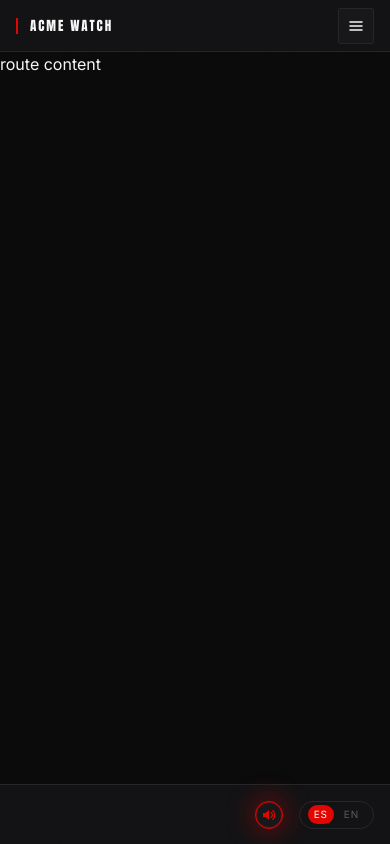
Scenario: Mobile navigation — top bar + drawer › closes the drawer on Escape
Click the button named "Menú" at x=356, y=26, box [338,8,374,44]
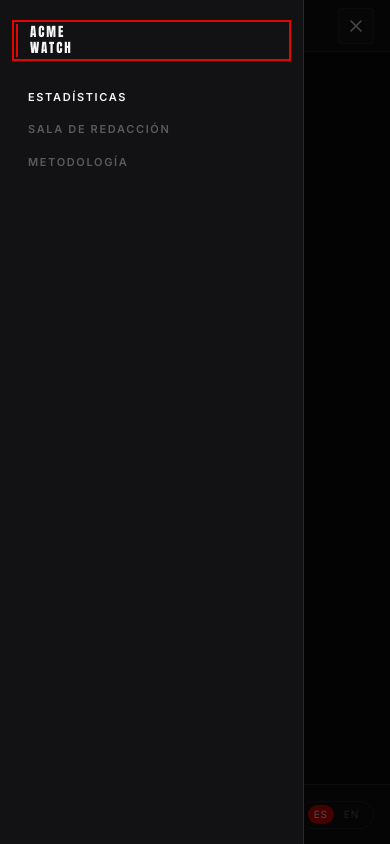
Check: the dialog is shown
Press Escape
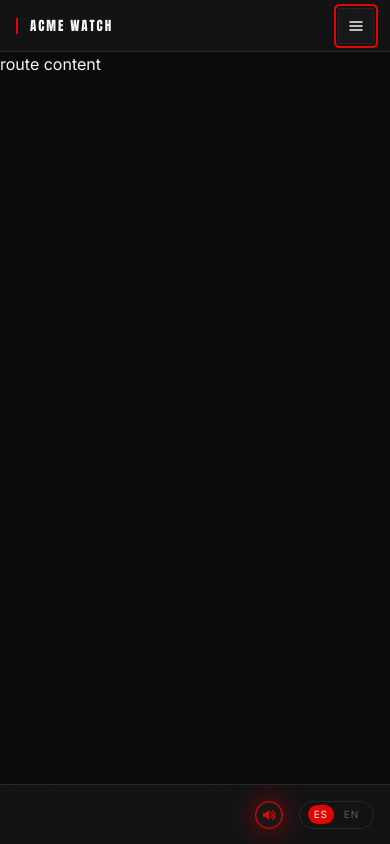
Check: the dialog is gone
